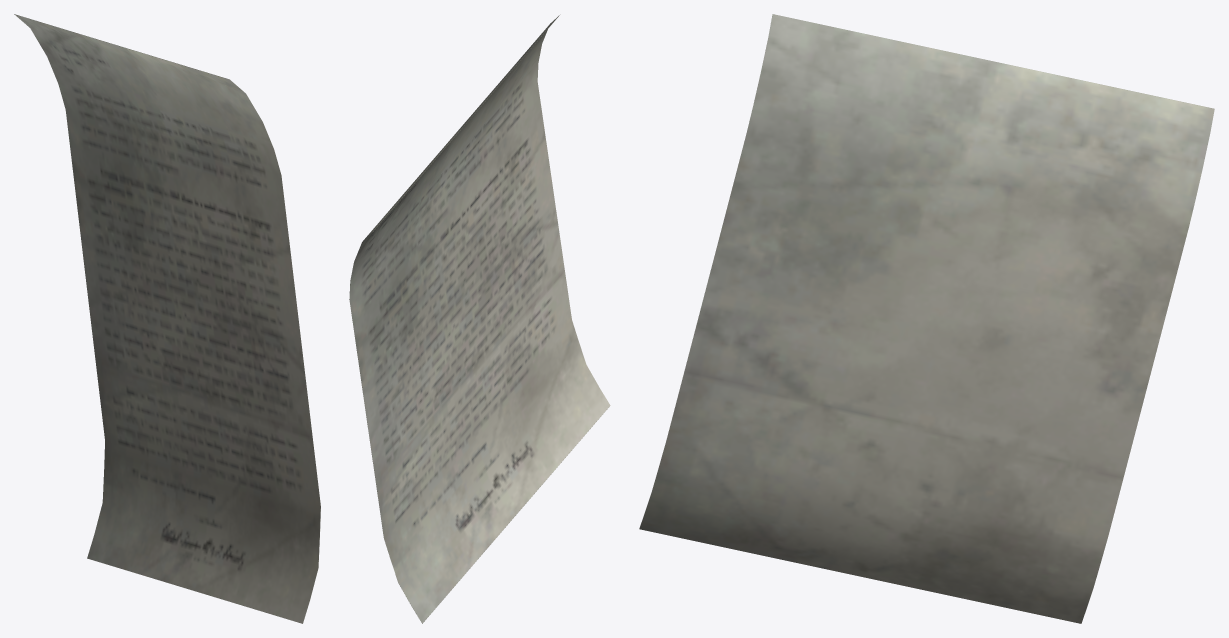
File: Paper_I.mo.004.fbx
The picture shows the model from 3 angles, left to right: view 1: azimuth 30°, elevation 25°; view 2: azimuth 150°, elevation 25°; view 3: azimuth 270°, elevation 25°; orthographic projection. The views are drawn at different scales.
Visible parts, largest first — view 1: Paper_I.mo.004; view 2: Paper_I.mo.004; view 3: Paper_I.mo.004.
Part boxes in pixels (x1,y1,x2,y2): Paper_I.mo.004: (14,14,320,623); Paper_I.mo.004: (349,14,610,623); Paper_I.mo.004: (639,14,1214,623).
Bounding box in the file's own units: 3.15 × 45.44 × 39.12.
